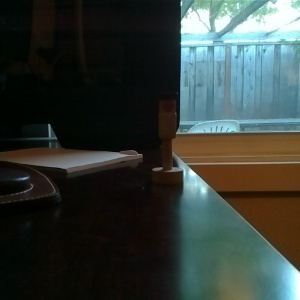traffic light red: (150, 90, 185, 186)
